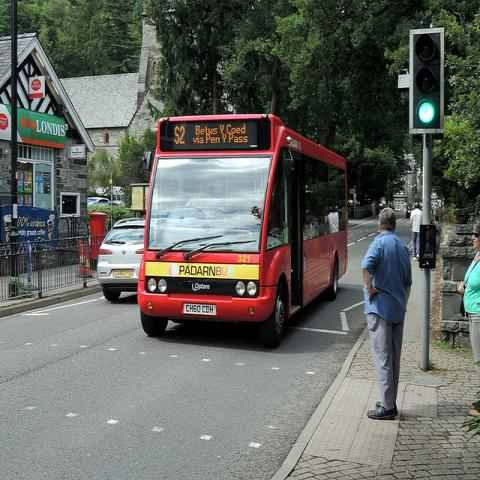bus: (132, 115, 346, 349)
car: (97, 216, 145, 302), (87, 197, 109, 207)
